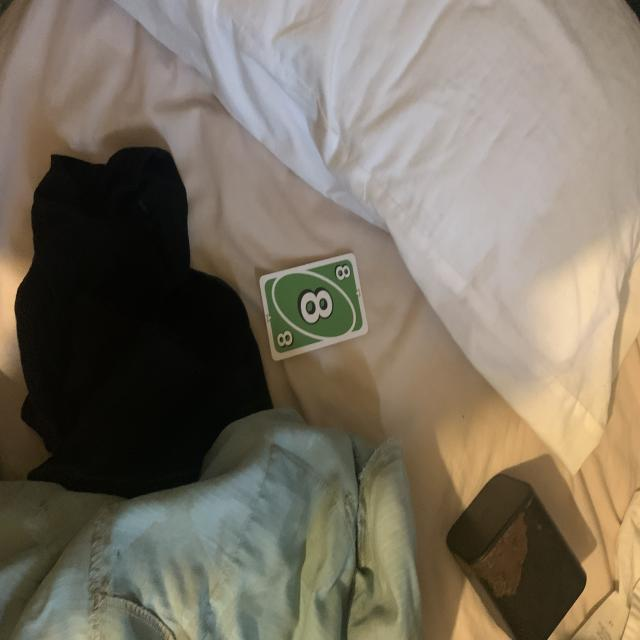lgreen-8: (333, 263, 354, 283)
